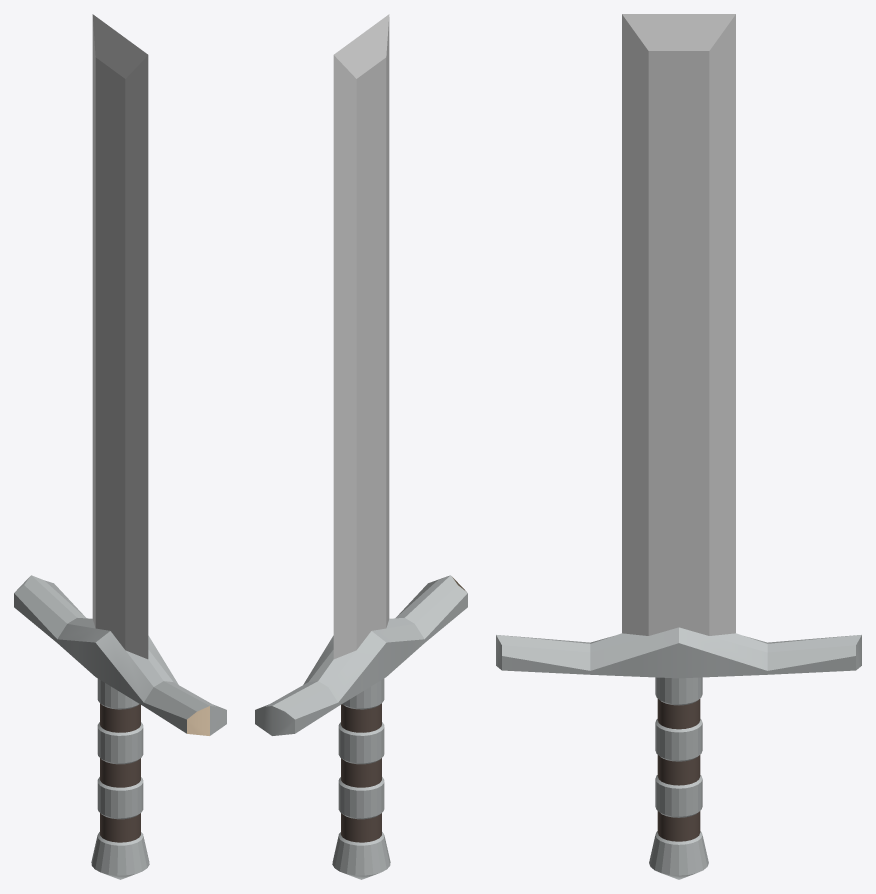
Rendered from epee2.fbx.
3 views of the same model, side by side, from view 1: azimuth 30°, elevation 25°; view 2: azimuth 150°, elevation 25°; view 3: azimuth 270°, elevation 25° (orthographic). The views are drawn at different scales.
Parts seen in each view (by area): view 1: epee; view 2: epee; view 3: epee.
Part boxes in pixels (<box>): epee: <box>14,14,226,879</box>; epee: <box>255,14,467,879</box>; epee: <box>496,14,861,879</box>.
Size of the model in its own units: 2.54 by 40.47 by 15.5.
